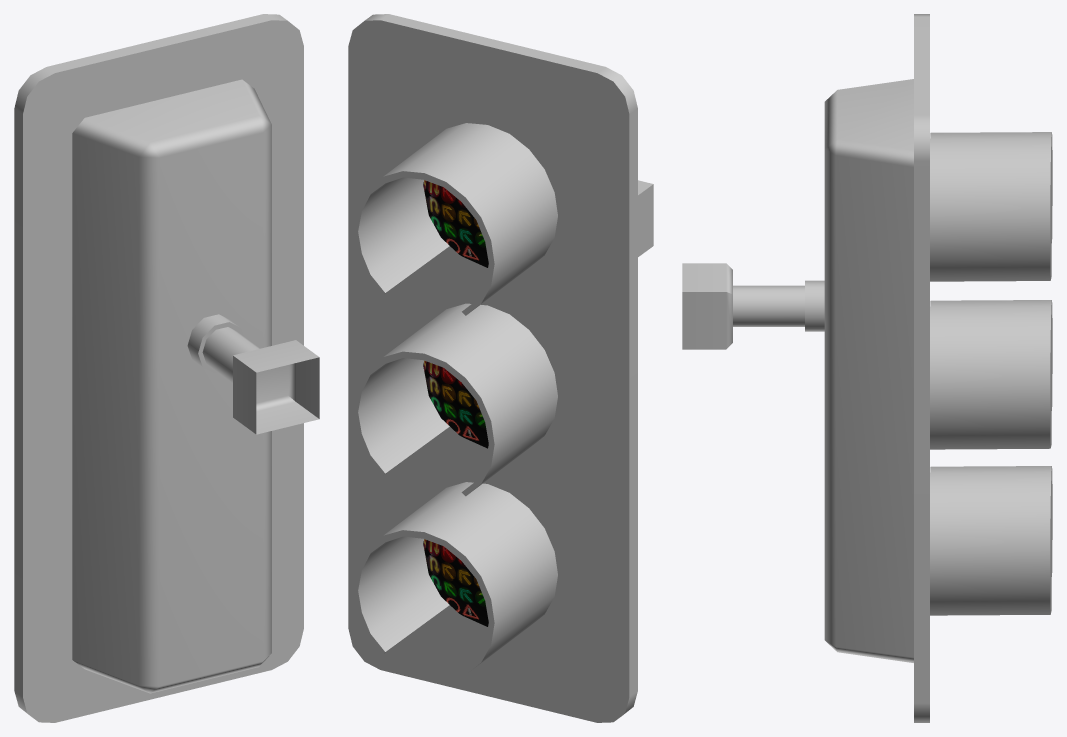
The model's file is Signal_3Light_Post01.fbx.
3 renders of one model, left to right at view 1: azimuth 30°, elevation 25°; view 2: azimuth 150°, elevation 25°; view 3: azimuth 270°, elevation 25°, orthographic. The views are drawn at different scales.
Visible parts, largest first — view 1: mesh_signal, mesh_post; view 2: mesh_signal, light_yellow, light_red, light_green, mesh_post; view 3: mesh_signal, mesh_post.
Part boxes in pixels (<box>): mesh_signal: <box>14,14,303,722</box>; mesh_post: <box>187,314,319,434</box>; mesh_signal: <box>348,14,637,722</box>; light_yellow: <box>423,360,488,448</box>; light_red: <box>423,180,488,267</box>; light_green: <box>423,539,488,626</box>; mesh_post: <box>638,180,653,256</box>; mesh_signal: <box>824,14,1052,722</box>; mesh_post: <box>682,263,824,349</box>.
Bounding box in the file's own units: 52.49 × 64.38 × 116.
